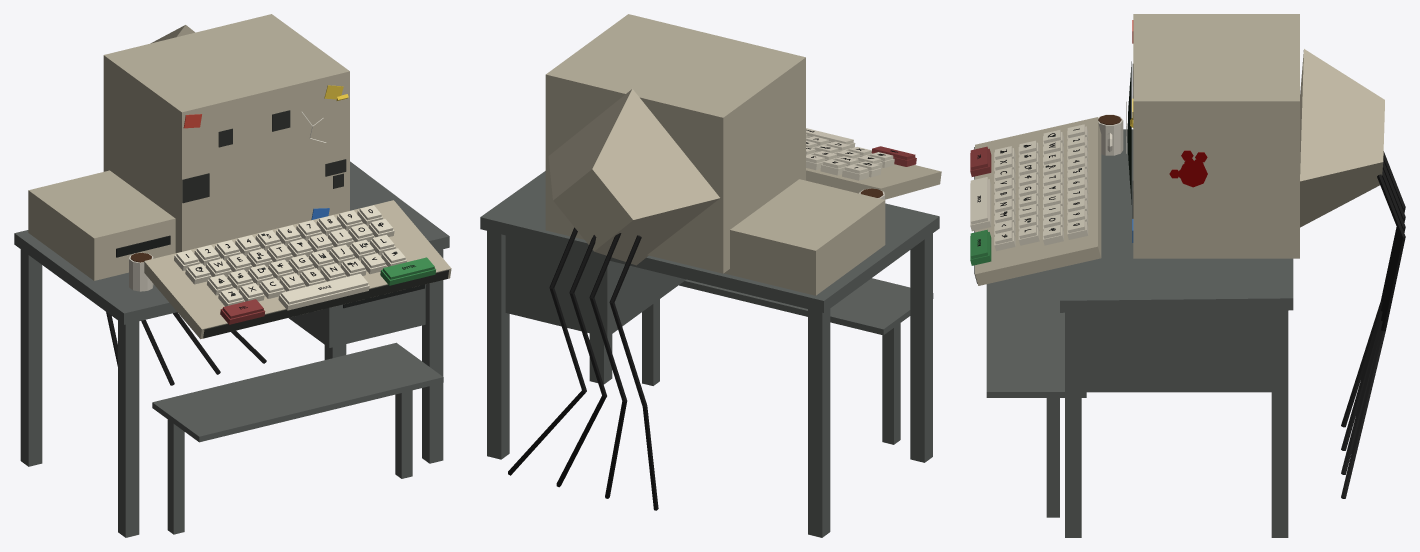
File: computer_terminal.glb
3 renders of one model, left to right at view 1: azimuth 30°, elevation 25°; view 2: azimuth 150°, elevation 25°; view 3: azimuth 270°, elevation 25°, orthographic. The views are drawn at different scales.
Visible parts, largest first — view 1: computer_terminal, keyboard_stand, keyboard, key_SPACE, key_ENTER, key_DELETE; view 2: computer_terminal, keyboard_stand, keyboard; view 3: computer_terminal, keyboard_stand, keyboard, key_SPACE, key_ENTER, key_DELETE.
Part boxes in pixels (box(x1,y1,x2,y2)): computer_terminal: box(14, 14, 449, 537); keyboard_stand: box(152, 342, 443, 534); keyboard: box(144, 200, 451, 339); key_SPACE: box(278, 273, 369, 310); key_ENTER: box(380, 257, 435, 285); key_DELETE: box(220, 299, 265, 324); computer_terminal: box(480, 14, 939, 537); keyboard_stand: box(642, 278, 933, 444); keyboard: box(806, 164, 941, 199); computer_terminal: box(1060, 14, 1405, 537); keyboard_stand: box(986, 267, 1086, 517); keyboard: box(974, 117, 1101, 285); key_SPACE: box(970, 177, 991, 231); key_ENTER: box(970, 229, 991, 265); key_DELETE: box(970, 146, 991, 176).
Bounding box in the file's own units: 1.2 × 1.37 × 1.31.
